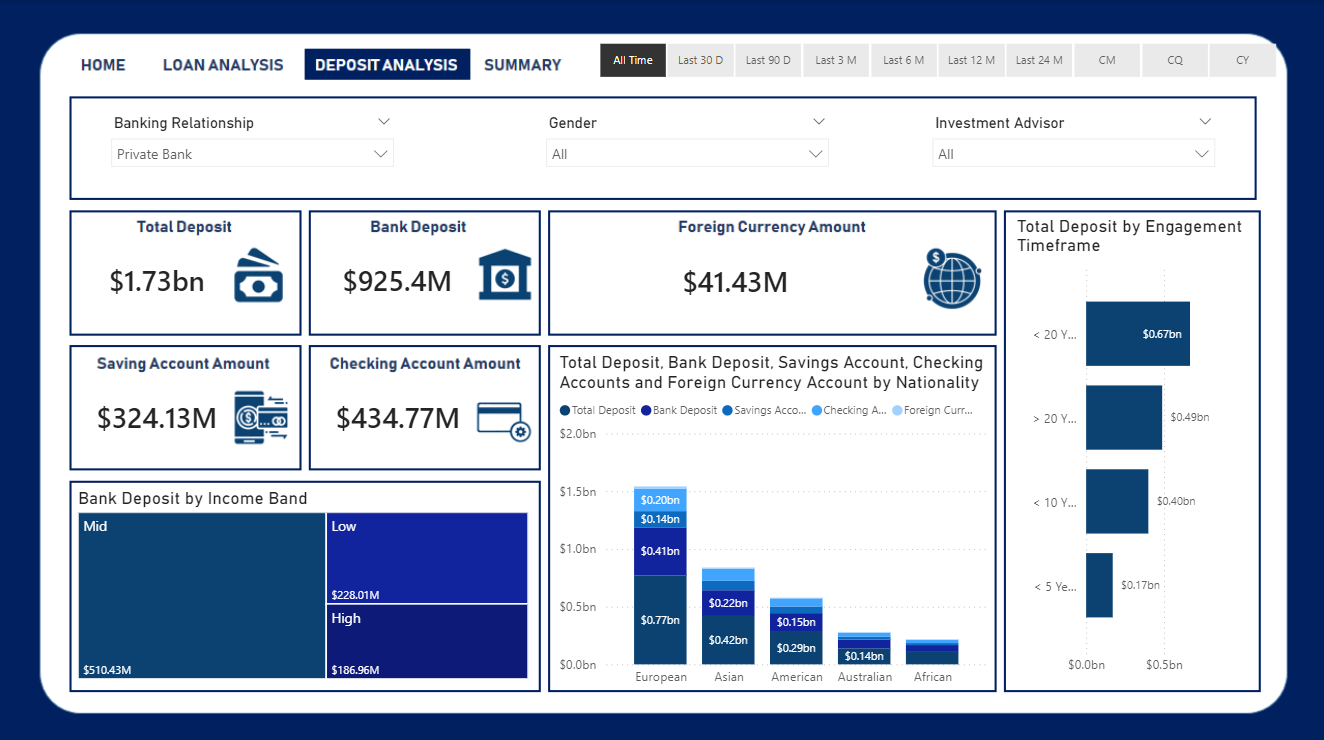

The page's visual inventory and layout, read from the dashboard file:
{"tool":"powerbi","page":{"name":"Deposit Analysis","canvas":[1280,720],"ordinal":2},"visuals":[{"type":"card","fields":{"Values":["DAX Measures.Total Deposit"]},"box":[72.7,226.3,161.8,90.3],"z":0},{"type":"card","fields":{"Values":["DAX Measures.Bank Deposit"]},"box":[299,226.3,172.4,89.1],"z":1000},{"type":"card","fields":{"Values":["DAX Measures.Savings Account"]},"box":[72.7,360,161.8,89.1],"z":2000},{"type":"card","fields":{"Values":["DAX Measures.Checking Accounts"]},"box":[300.2,360,171.2,89.1],"z":3000},{"type":"slicer","fields":{"Values":["Banking Relationship.Banking Relationship"]},"box":[98.5,105.2,292.9,75.7],"z":4000},{"type":"slicer","fields":{"Values":["Gender.Gender"]},"box":[518.9,105.2,292.9,75.7],"z":5000},{"type":"slicer","fields":{"Values":["Investment Advisor.Investment Advisor"]},"box":[891.3,105.2,292.9,75.7],"z":6000},{"type":"card","fields":{"Values":["DAX Measures.Foreign Currency Account"]},"box":[537.1,227.5,349.4,89.1],"z":7000},{"type":"treemap","fields":{"Group":["Clients - Banking.Income Band"],"Values":["DAX Measures.Bank Deposit"]},"box":[72.7,470.2,444.4,190],"z":8000},{"type":"columnChart","fields":{"Category":["Clients - Banking.Nationality"],"Y":["DAX Measures.Total Deposit","DAX Measures.Bank Deposit","DAX Measures.Savings Account","DAX Measures.Checking Accounts","DAX Measures.Foreign Currency Account"]},"box":[537.1,338.9,423.3,331.9],"z":9000},{"type":"clusteredBarChart","fields":{"Category":["Clients - Banking.Engagement Timeframe"],"Y":["DAX Measures.Total Deposit"]},"box":[978,207.6,234.5,452.6],"z":10000},{"type":"slicer","fields":{"Values":["Period.Name"]},"box":[555.2,34.6,702.1,46.6],"z":11000},{"type":"actionButton","box":[72.8,44.2,58.5,31],"z":12000},{"type":"actionButton","box":[160,44.2,119.4,31],"z":13000},{"type":"actionButton","box":[471.6,44.2,83.6,31],"z":14000}]}

Visuals, with their boxes in screenshot pixels (x1, y1, x2, y2), scaled from the page's 1280x720 canvas onto the 1324x740 screenshot:
card - DAX Measures.Total Deposit: 75, 233, 243, 325
card - DAX Measures.Bank Deposit: 309, 233, 488, 324
card - DAX Measures.Savings Account: 75, 370, 243, 462
card - DAX Measures.Checking Accounts: 311, 370, 488, 462
slicer - Banking Relationship.Banking Relationship: 102, 108, 405, 186
slicer - Gender.Gender: 537, 108, 840, 186
slicer - Investment Advisor.Investment Advisor: 922, 108, 1225, 186
card - DAX Measures.Foreign Currency Account: 556, 234, 917, 325
treemap - Clients - Banking.Income Band x DAX Measures.Bank Deposit: 75, 483, 535, 679
columnChart - Clients - Banking.Nationality x DAX Measures.Total Deposit: 556, 348, 993, 689
clusteredBarChart - Clients - Banking.Engagement Timeframe x DAX Measures.Total Deposit: 1012, 213, 1254, 679
slicer - Period.Name: 574, 36, 1301, 83
actionButton: 75, 45, 136, 77
actionButton: 166, 45, 289, 77
actionButton: 488, 45, 574, 77
